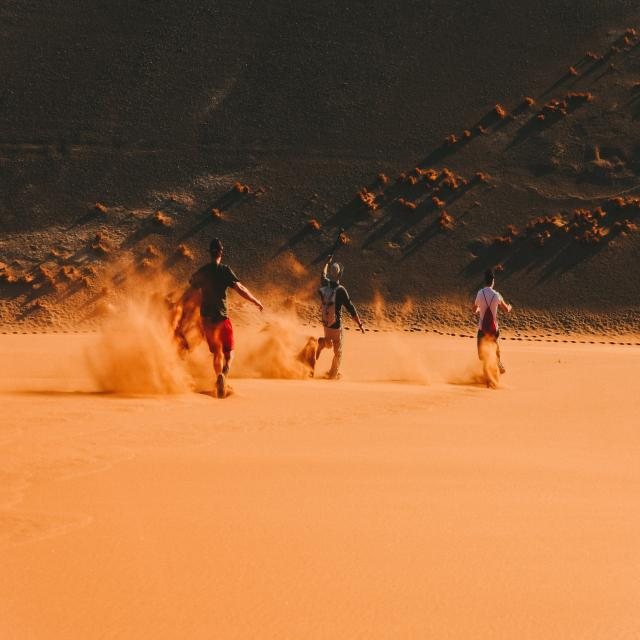running: (181, 233, 271, 405), (314, 251, 369, 386), (470, 269, 515, 394)
